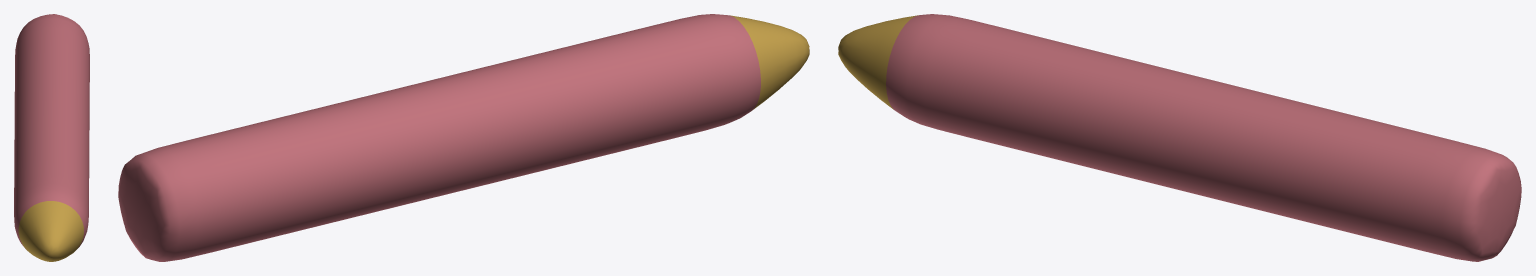
Rendered from pen.glb.
The picture shows the model from 3 angles, left to right: view 1: azimuth 30°, elevation 25°; view 2: azimuth 150°, elevation 25°; view 3: azimuth 270°, elevation 25°; orthographic projection. The views are drawn at different scales.
Visible parts, largest first — view 1: pen; view 2: pen; view 3: pen.
Boxes of the visible parts, x1,y1,x2,y2 form: pen: [14, 14, 89, 261]; pen: [118, 14, 809, 261]; pen: [838, 14, 1521, 261].
Size of the model in its own units: 0.0955 by 0.0255 by 0.1499.
